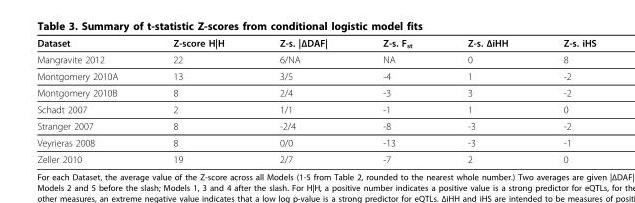table: (36, 36, 595, 164)
table column: (36, 36, 144, 164), (144, 36, 251, 164), (251, 36, 354, 164), (439, 36, 535, 164), (354, 36, 439, 164), (535, 36, 595, 164)
table column header: (36, 36, 595, 51)
table row: (36, 67, 595, 84), (36, 100, 595, 117), (36, 117, 595, 134), (36, 51, 595, 67), (36, 84, 595, 100), (36, 134, 595, 150), (36, 36, 595, 51), (36, 150, 595, 164)
